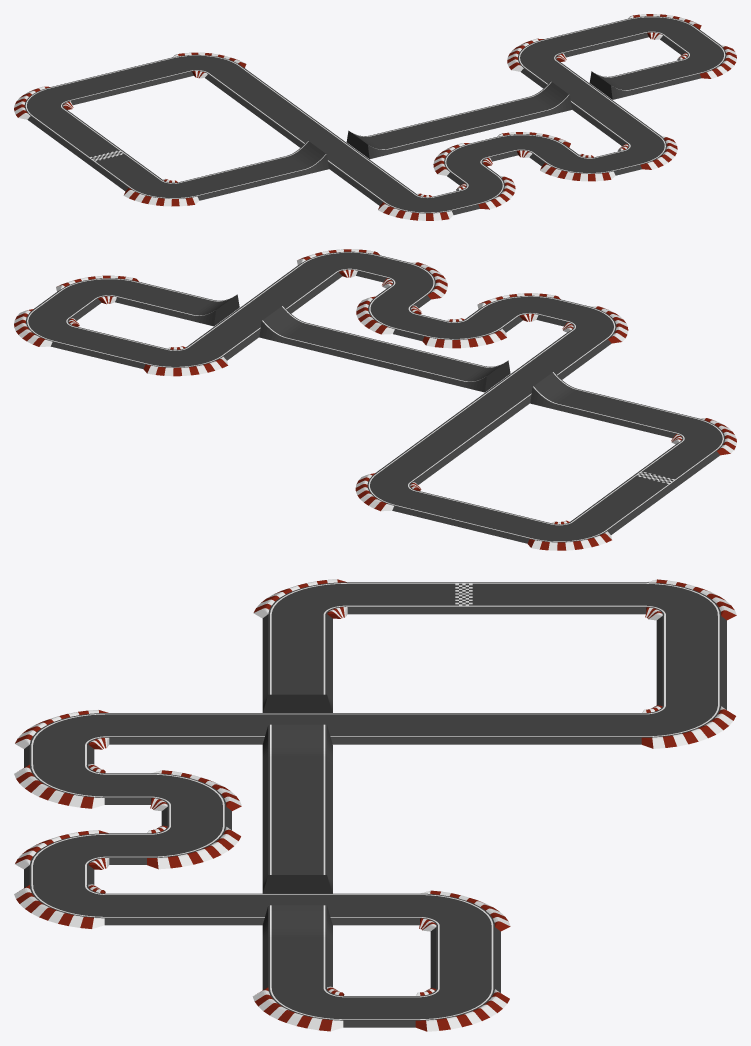
The model's file is Track-05.fbx.
3 renders of one model, top to bottom at view 1: azimuth 30°, elevation 25°; view 2: azimuth 150°, elevation 25°; view 3: azimuth 270°, elevation 25°, orthographic. The views are drawn at different scales.
Visible parts, largest first — view 1: Track-05; view 2: Track-05; view 3: Track-05.
Boxes of the visible parts, box(x1,y1,x2,y2) form: Track-05: box(14, 14, 736, 220); Track-05: box(14, 249, 736, 550); Track-05: box(14, 579, 736, 1031).
Size of the model in its own units: 276 by 5.77 by 186.
